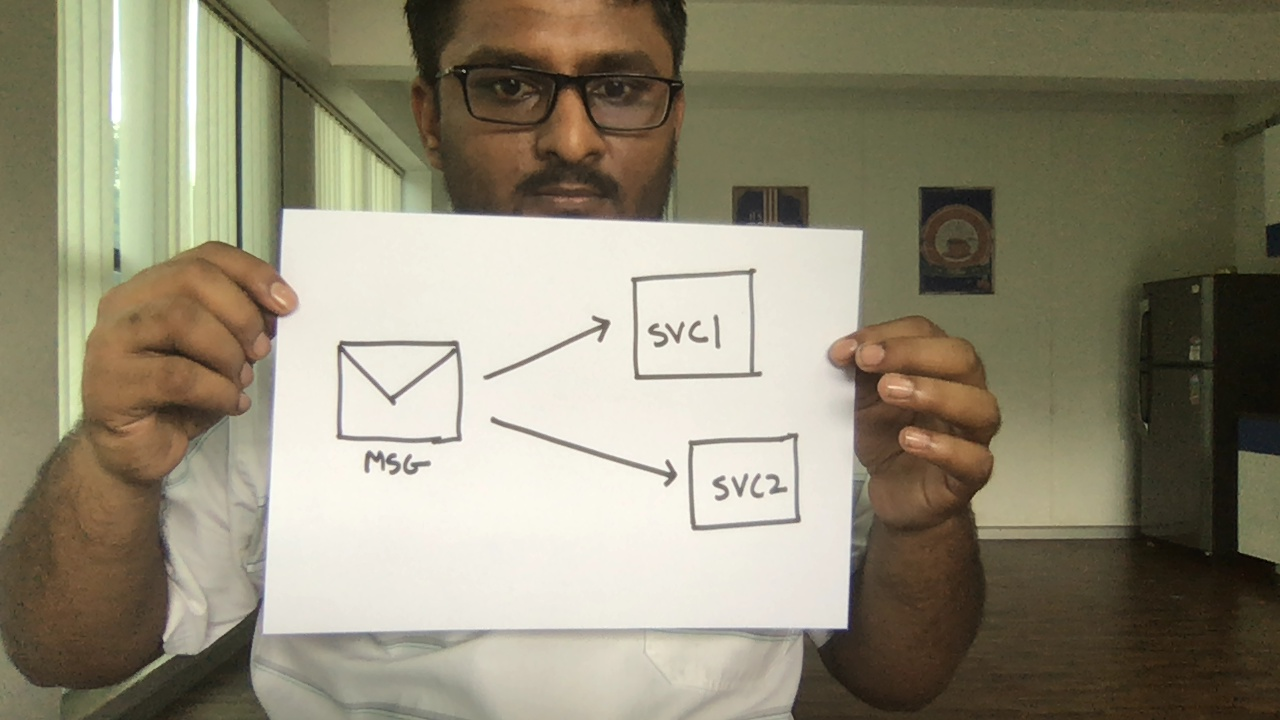arrow: (485, 403, 683, 497), (479, 309, 620, 385)
ec2: (624, 263, 772, 391), (680, 427, 808, 536)
sns: (331, 333, 474, 481)
